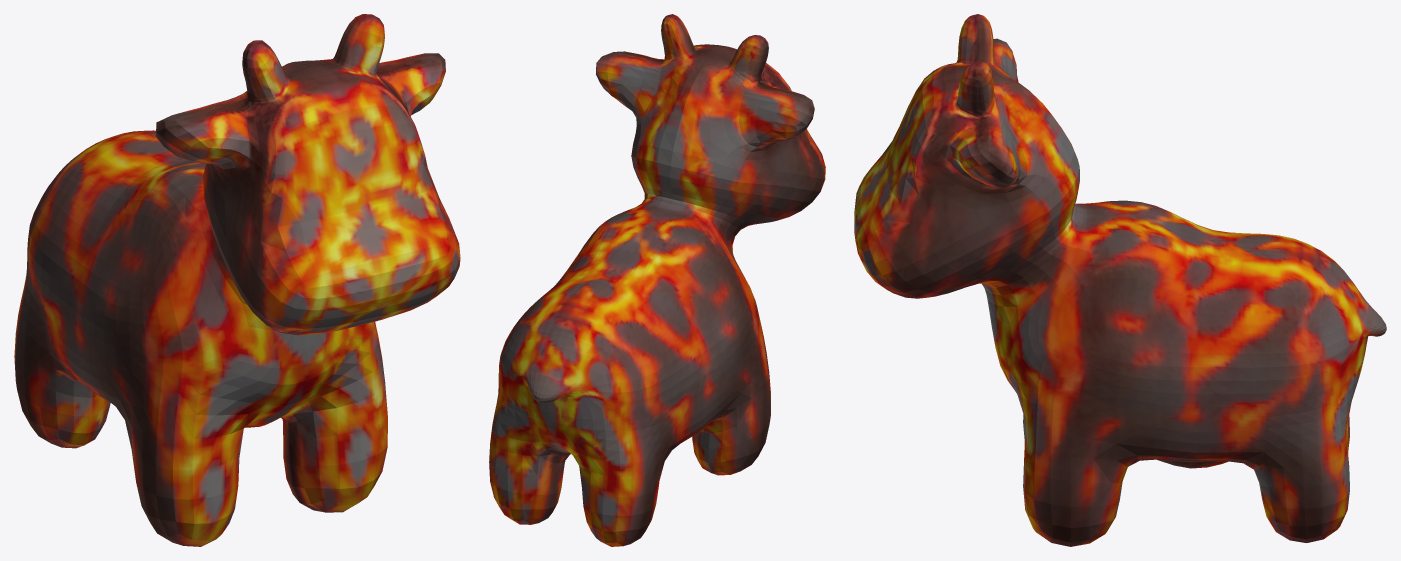
The model's file is ours_t4.glb.
3 views of the same model, side by side, from view 1: azimuth 30°, elevation 25°; view 2: azimuth 150°, elevation 25°; view 3: azimuth 270°, elevation 25° (orthographic). The views are drawn at different scales.
Parts seen in each view (by area): view 1: geometry_0; view 2: geometry_0; view 3: geometry_0.
Boxes of the visible parts, box(x1,y1,x2,y2) form: geometry_0: box(14, 14, 460, 546); geometry_0: box(489, 14, 825, 546); geometry_0: box(854, 14, 1386, 546).
Size of the model in its own units: 0.549 by 0.984 by 1.
